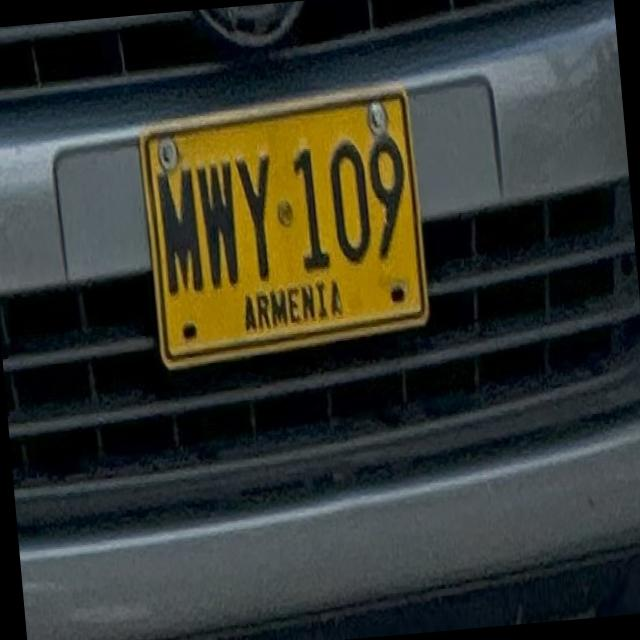number plate: (139, 86, 426, 365)
